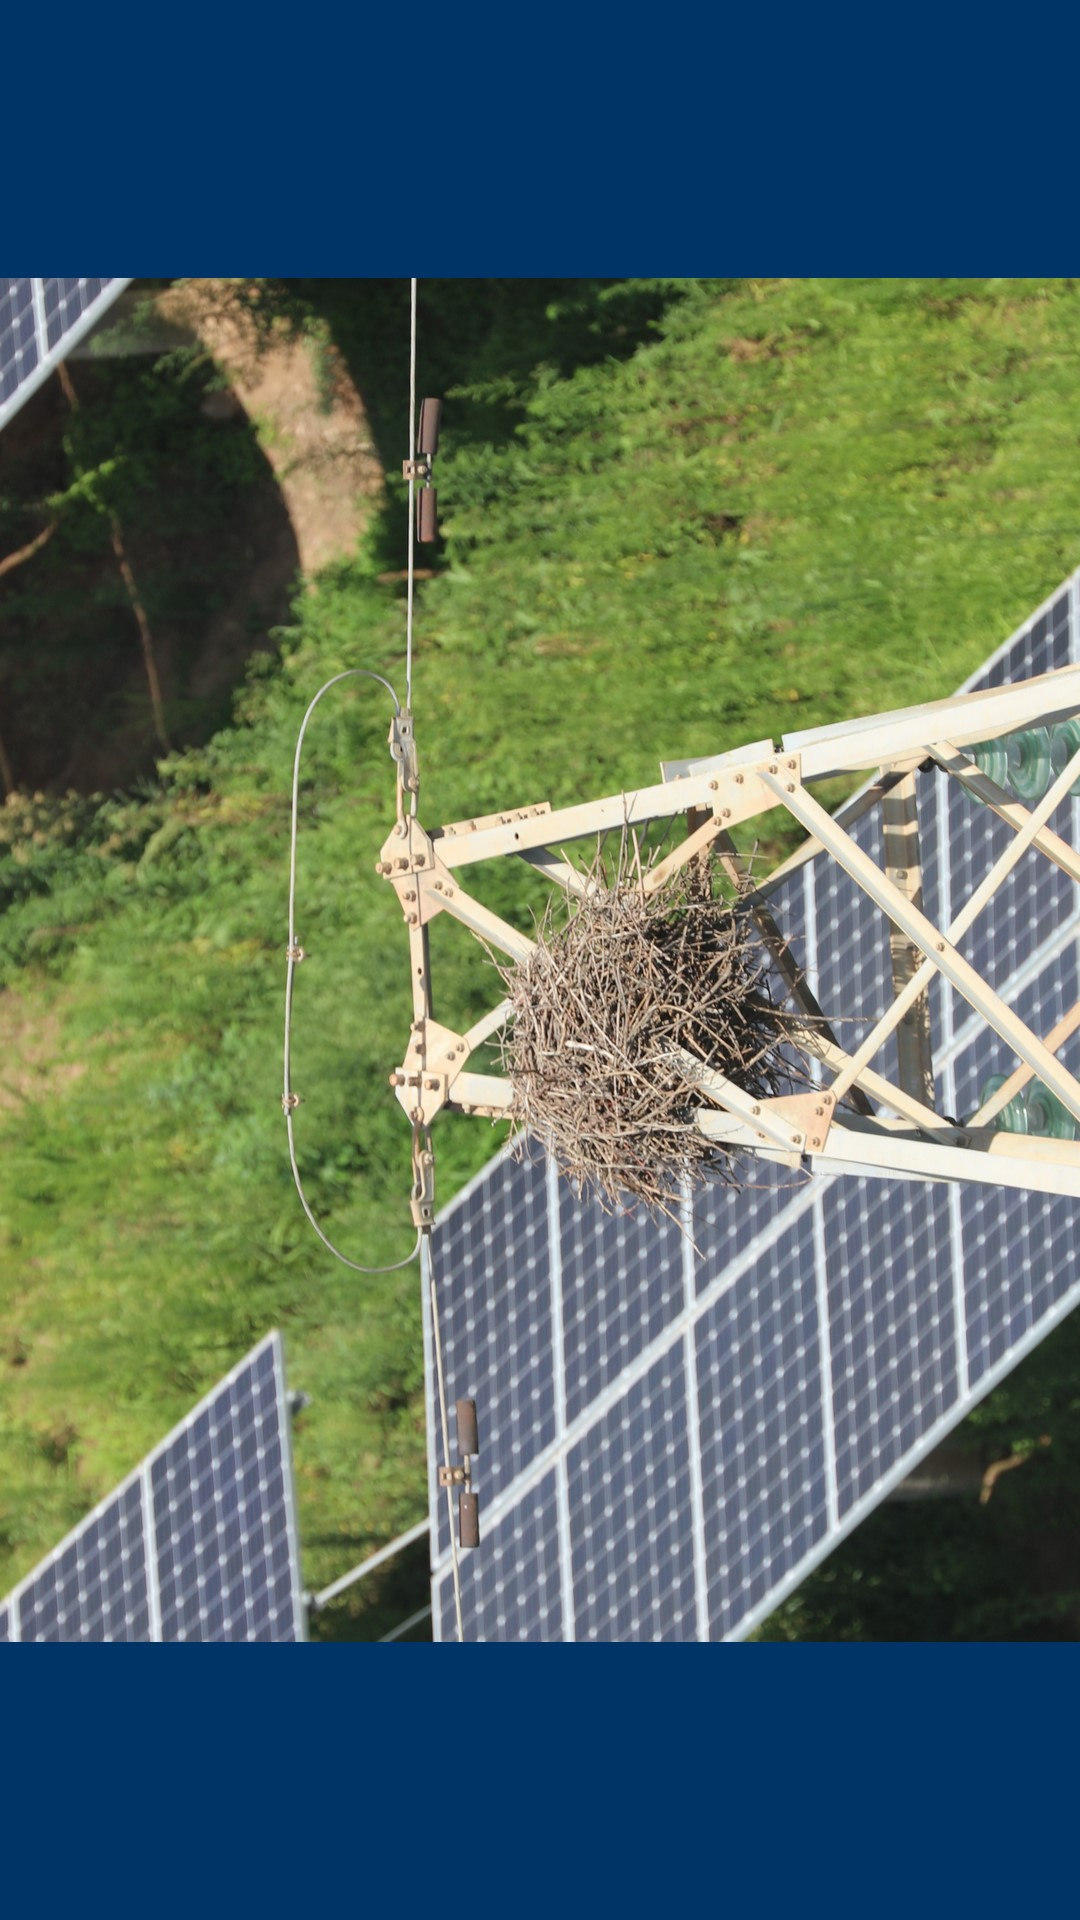niaowo: (456, 825, 800, 1221)
